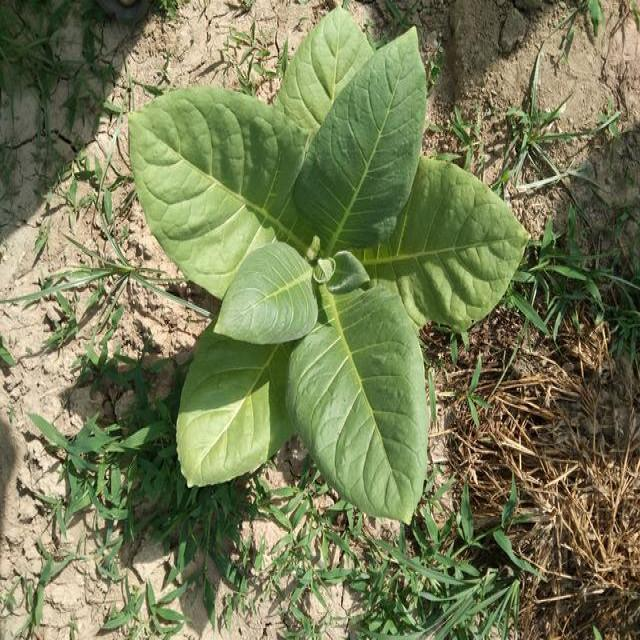crop: (110, 7, 532, 527)
